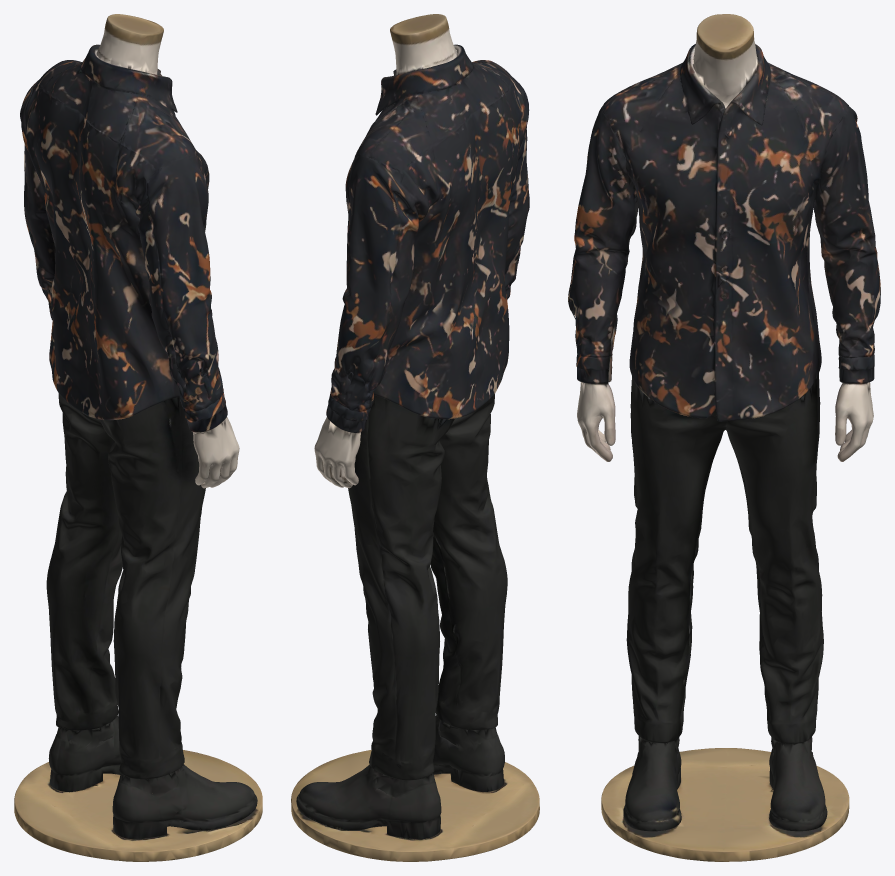
File: pr_navy.glb
3 renders of one model, left to right at view 1: azimuth 30°, elevation 25°; view 2: azimuth 150°, elevation 25°; view 3: azimuth 270°, elevation 25°, orthographic.
Visible parts, largest first — view 1: tripo_node_4316e7ff-e6d1-4af2-bc54-98e5ae83ec4b; view 2: tripo_node_4316e7ff-e6d1-4af2-bc54-98e5ae83ec4b; view 3: tripo_node_4316e7ff-e6d1-4af2-bc54-98e5ae83ec4b.
Part boxes in pixels (<box>): tripo_node_4316e7ff-e6d1-4af2-bc54-98e5ae83ec4b: <box>14,14,262,861</box>; tripo_node_4316e7ff-e6d1-4af2-bc54-98e5ae83ec4b: <box>291,14,539,861</box>; tripo_node_4316e7ff-e6d1-4af2-bc54-98e5ae83ec4b: <box>568,14,880,861</box>.
Bounding box in the file's own units: 0.2794 × 0.9787 × 0.354.
1 material, 1 textured.
